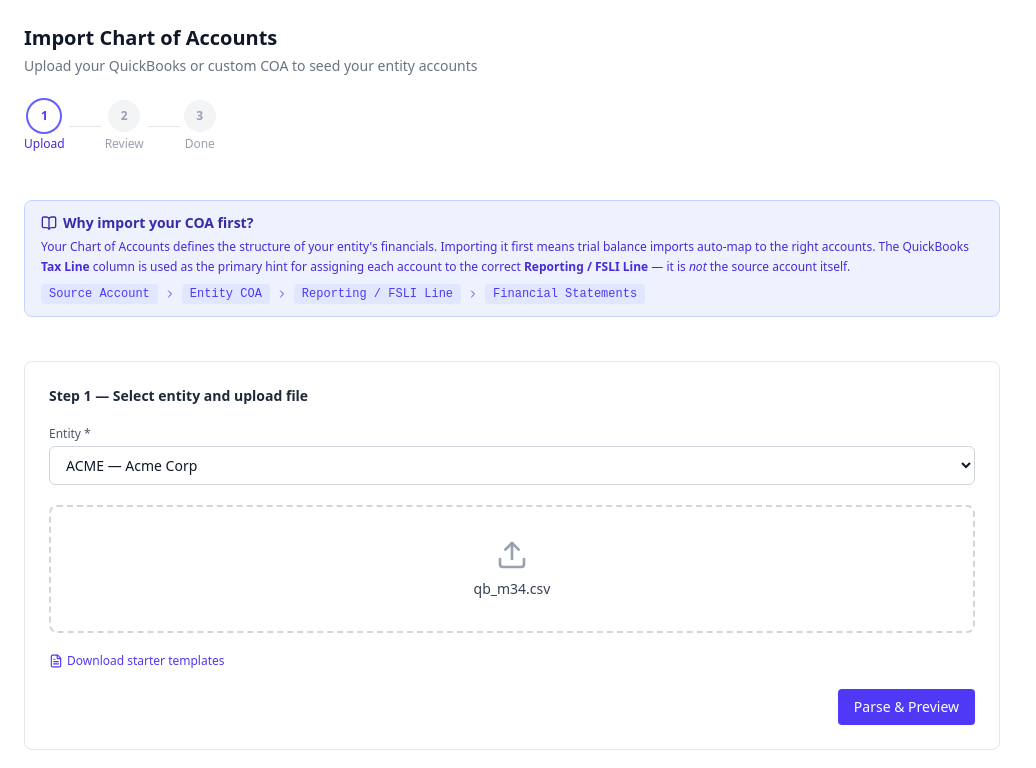
COAImportPage — M34 › shows Unassigned filter chip after upload when there are unassigned rows
Earlier steps of the test are not shown.
Click the button "Parse & Preview". click: coordinates (906, 707)
box: [838,689,975,725]
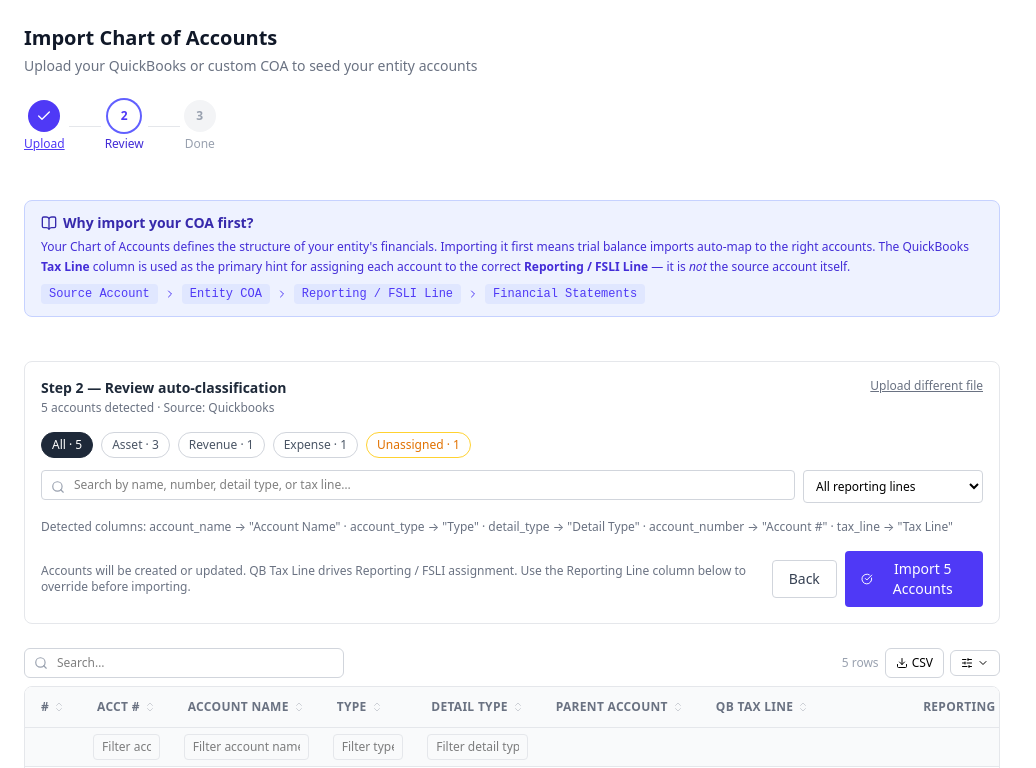
Check: the heading "Step 2 — Review auto-classification" is shown, box [41,378,286,398]
Check: the button "Unassigned · 1" is shown, box [366,432,471,458]
